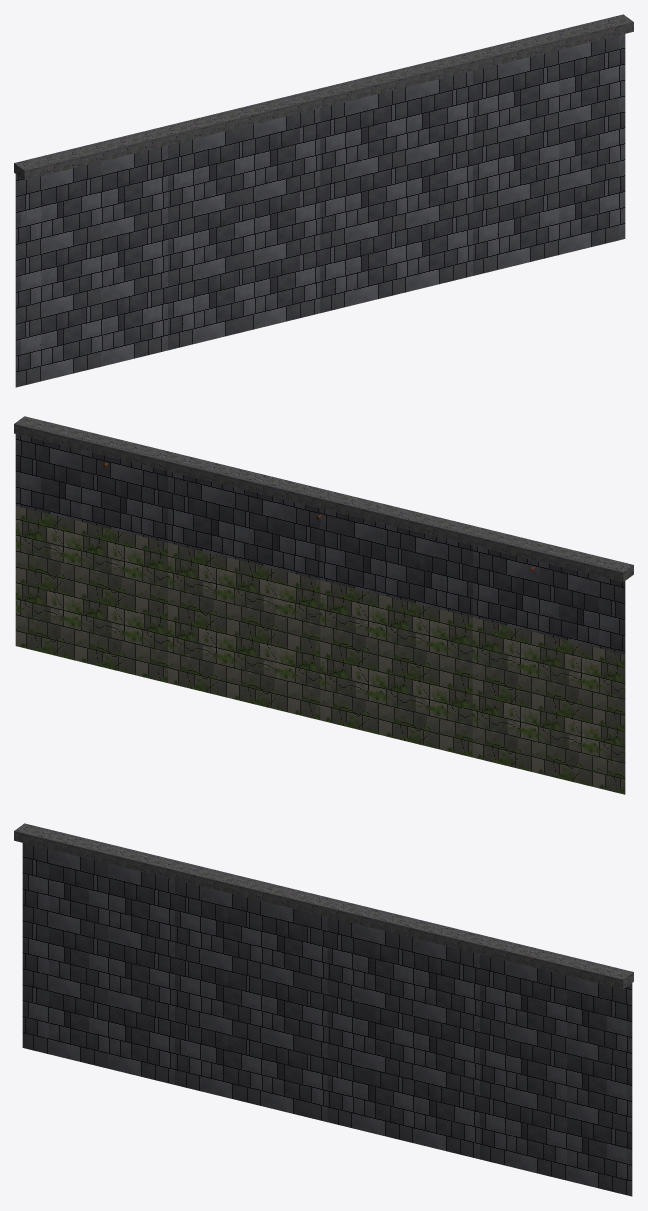
The model's file is malecon_niebla.obj.
The picture shows the model from 3 angles, top to bottom: view 1: azimuth 30°, elevation 25°; view 2: azimuth 150°, elevation 25°; view 3: azimuth 330°, elevation 25°; orthographic projection.
Parts seen in each view (by area): view 1: malecon_niebla; view 2: malecon_niebla; view 3: malecon_niebla.
Boxes of the visible parts, x1,y1,x2,y2 form: malecon_niebla: (14, 14, 633, 387); malecon_niebla: (14, 416, 633, 794); malecon_niebla: (14, 823, 633, 1196).
Bounding box in the file's own units: 20 × 7 × 0.65.
Materials: 4 (4 with a texture image).
